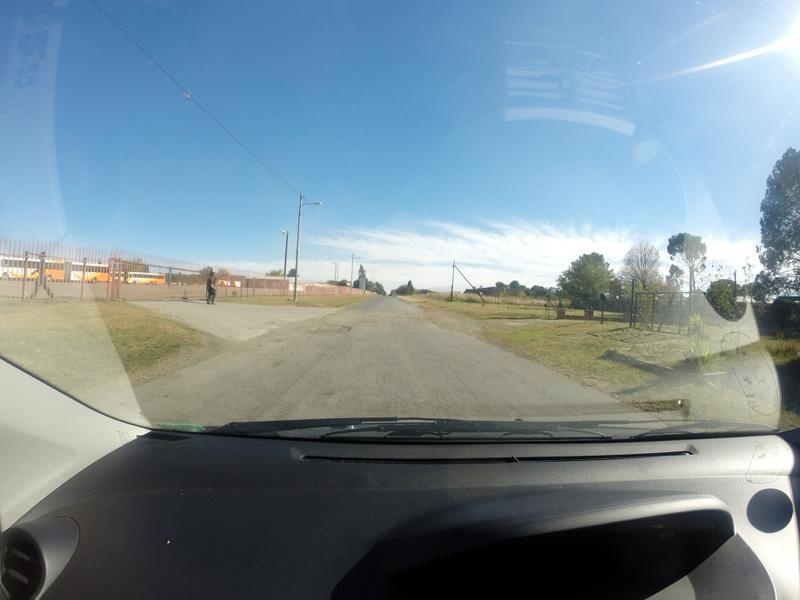pothole: (298, 309, 358, 340)
